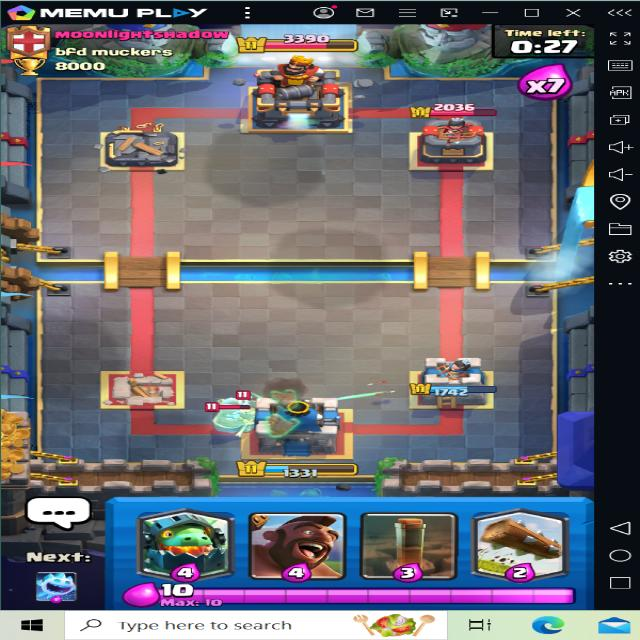monk: (202, 400, 257, 440)
monk-ability: (208, 401, 265, 440)
